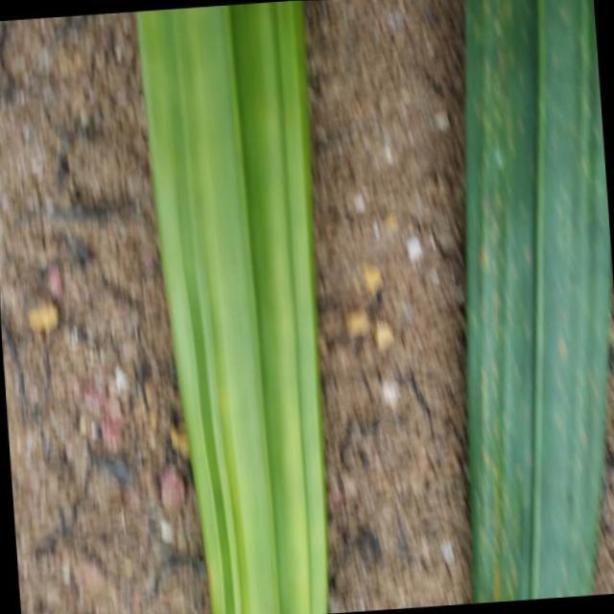nitrogen: (134, 0, 325, 614)
